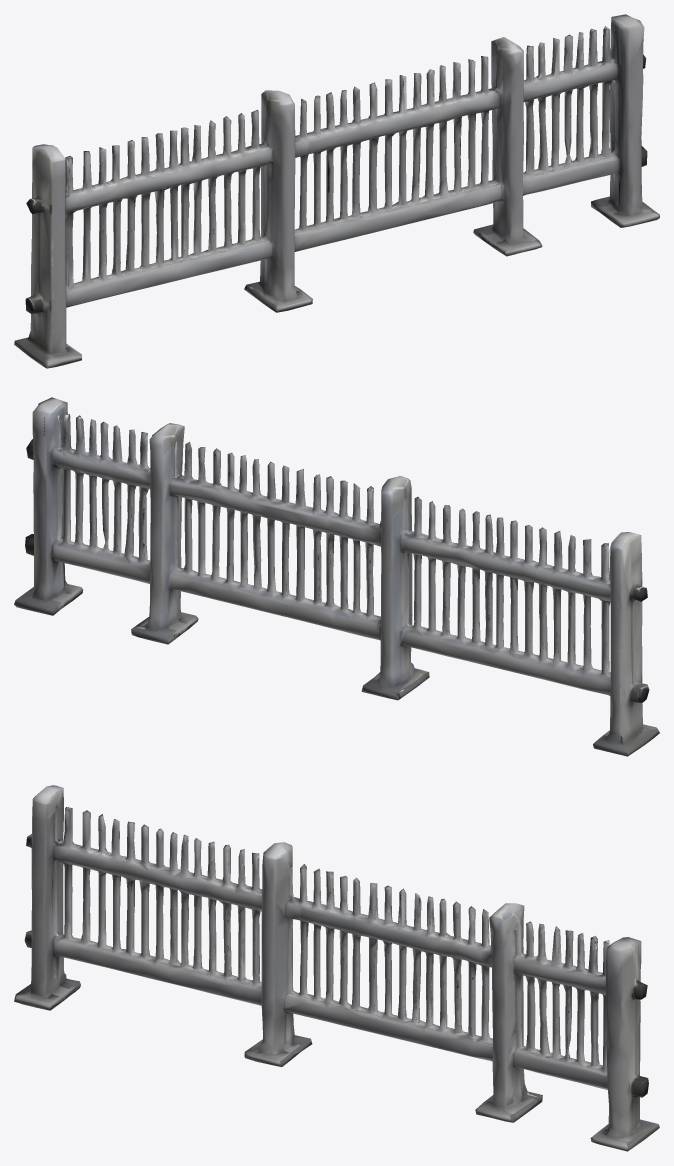
The model's file is Simple_fence_railing__1028222631_texture.glb.
3 renders of one model, top to bottom at view 1: azimuth 30°, elevation 25°; view 2: azimuth 150°, elevation 25°; view 3: azimuth 330°, elevation 25°, orthographic.
Parts seen in each view (by area): view 1: Mesh1.0; view 2: Mesh1.0; view 3: Mesh1.0.
Boxes of the visible parts, box(x1,y1,x2,y2) form: Mesh1.0: box(14, 14, 659, 368); Mesh1.0: box(14, 397, 659, 756); Mesh1.0: box(14, 785, 659, 1151).
Size of the model in its own units: 2.01 by 0.6433 by 0.1811.
1 material, 1 textured.
